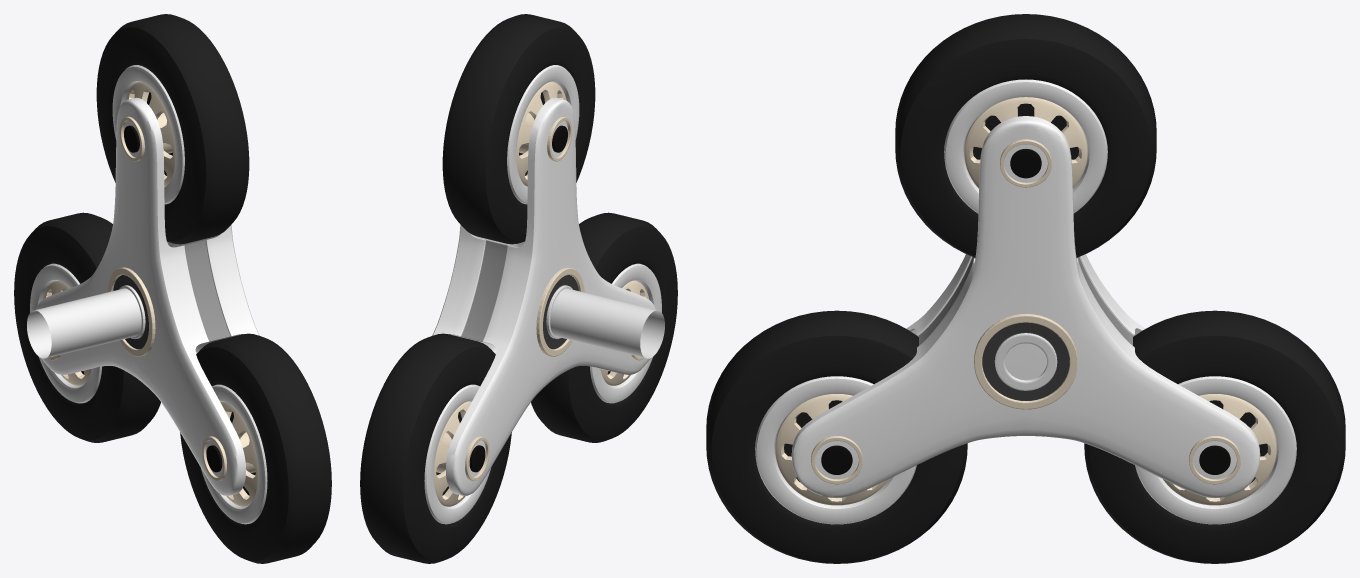
The model's file is wheel33.glb.
The picture shows the model from 3 angles, left to right: view 1: azimuth 30°, elevation 25°; view 2: azimuth 150°, elevation 25°; view 3: azimuth 270°, elevation 25°; orthographic projection. The views are drawn at different scales.
Parts seen in each view (by area): view 1: wheel33.001; view 2: wheel33.001; view 3: wheel33.001.
Part boxes in pixels (x1,y1,x2,y2): wheel33.001: (14,14,331,563); wheel33.001: (360,14,677,563); wheel33.001: (706,14,1345,563).
Size of the model in its own units: 0.0859 by 0.2158 by 0.2344.
